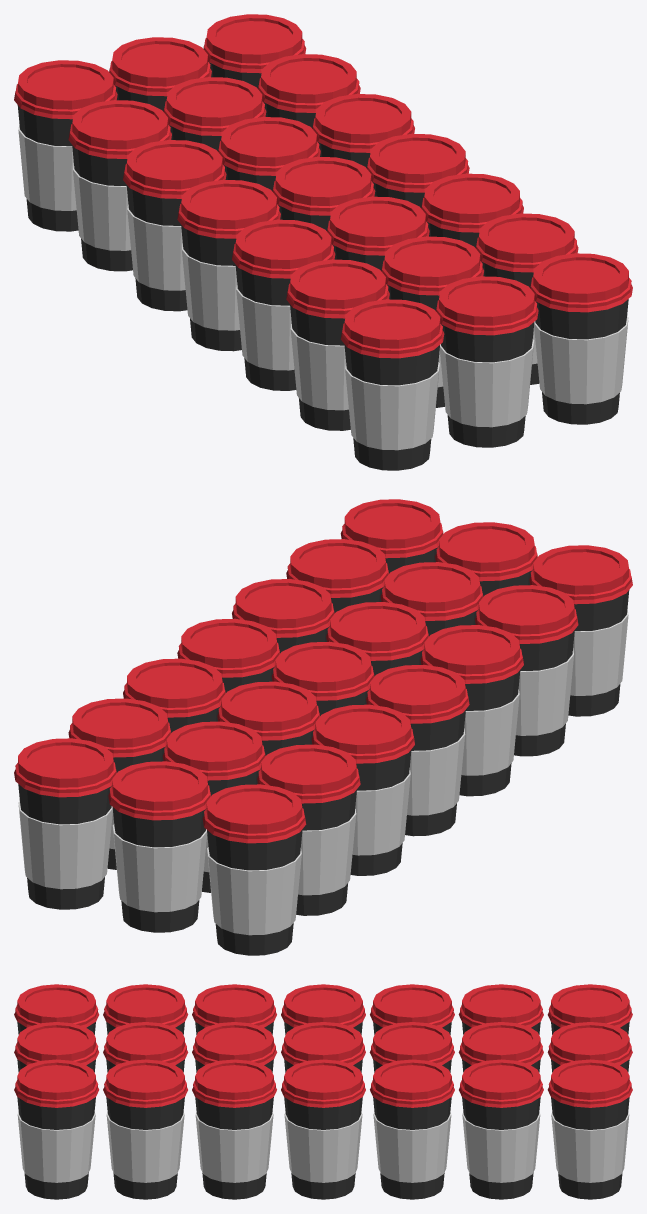
Rendered from Cup_Stack_00_00.fbx.
3 views of the same model, one above another, from view 1: azimuth 30°, elevation 25°; view 2: azimuth 150°, elevation 25°; view 3: azimuth 270°, elevation 25° (orthographic). The views are drawn at different scales.
Parts seen in each view (by area): view 1: Coffee Cup.020, Coffee Cup, Coffee Cup.013, Coffee Cup.014, Coffee Cup.015, Coffee Cup.017, Coffee Cup.019, Coffee Cup.018, Coffee Cup.016, Coffee Cup.001, Coffee Cup.012, Coffee Cup.006 (+9 smaller); view 2: Coffee Cup.014, Coffee Cup.006, Coffee Cup.007, Coffee Cup.020, Coffee Cup.019, Coffee Cup.018, Coffee Cup.015, Coffee Cup.017, Coffee Cup.016, Coffee Cup.005, Coffee Cup.008, Coffee Cup (+9 smaller); view 3: Coffee Cup, Coffee Cup.006, Coffee Cup.001, Coffee Cup.002, Coffee Cup.003, Coffee Cup.004, Coffee Cup.005, Coffee Cup.007, Coffee Cup.013, Coffee Cup.015, Coffee Cup.019, Coffee Cup.009 (+9 smaller).
Part boxes in pixels (x1,y1,x2,y2): Coffee Cup.020: [340, 299, 444, 470]; Coffee Cup: [530, 253, 632, 424]; Coffee Cup.013: [436, 276, 538, 447]; Coffee Cup.014: [14, 60, 117, 231]; Coffee Cup.015: [68, 100, 171, 271]; Coffee Cup.017: [123, 140, 226, 311]; Coffee Cup.019: [286, 259, 389, 430]; Coffee Cup.018: [232, 219, 335, 390]; Coffee Cup.016: [177, 180, 280, 351]; Coffee Cup.001: [475, 213, 578, 384]; Coffee Cup.012: [381, 236, 483, 407]; Coffee Cup.006: [203, 14, 306, 88]; Coffee Cup.014: [202, 784, 306, 955]; Coffee Cup.006: [14, 738, 116, 909]; Coffee Cup.007: [108, 761, 210, 932]; Coffee Cup.020: [529, 545, 632, 716]; Coffee Cup.019: [475, 585, 578, 756]; Coffee Cup.018: [420, 625, 523, 796]; Coffee Cup.015: [257, 744, 360, 915]; Coffee Cup.017: [311, 704, 414, 875]; Coffee Cup.016: [366, 665, 469, 836]; Coffee Cup.005: [68, 698, 171, 869]; Coffee Cup.008: [163, 721, 265, 892]; Coffee Cup: [340, 499, 443, 573]; Coffee Cup: [14, 1059, 99, 1199]; Coffee Cup.006: [547, 1059, 632, 1199]; Coffee Cup.001: [103, 1059, 187, 1199]; Coffee Cup.002: [192, 1059, 276, 1199]; Coffee Cup.003: [370, 1059, 454, 1199]; Coffee Cup.004: [281, 1059, 365, 1199]; Coffee Cup.005: [459, 1059, 543, 1199]; Coffee Cup.007: [547, 1022, 632, 1072]; Coffee Cup.013: [14, 1022, 99, 1072]; Coffee Cup.015: [458, 984, 543, 1034]; Coffee Cup.019: [103, 984, 188, 1034]; Coffee Cup.009: [281, 1022, 365, 1072].
Size of the model in its own units: 37 by 17.14 by 87.
